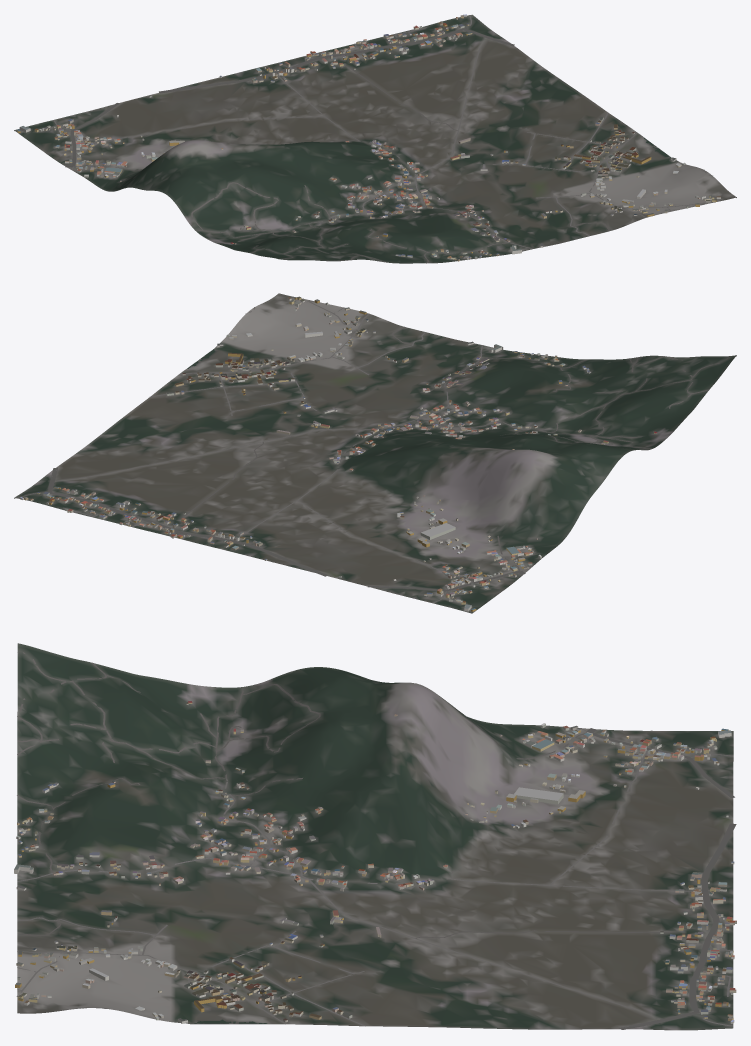
3 views of the same model, one above another, from view 1: azimuth 30°, elevation 25°; view 2: azimuth 150°, elevation 25°; view 3: azimuth 270°, elevation 25° (orthographic). The views are drawn at different scales.
Parts seen in each view (by area): view 1: ground, buildings, roads; view 2: ground, buildings, roads; view 3: ground, buildings, roads.
Boxes of the visible parts, bbox=[...] form: ground: bbox=[14, 14, 736, 263]; buildings: bbox=[17, 14, 720, 261]; roads: bbox=[53, 15, 712, 263]; ground: bbox=[14, 293, 736, 613]; buildings: bbox=[20, 296, 656, 611]; roads: bbox=[17, 298, 728, 603]; ground: bbox=[17, 643, 733, 1030]; buildings: bbox=[14, 701, 736, 1023]; roads: bbox=[16, 652, 736, 1029].
Bounding box in the file's own units: 1410 × 193 × 1416.
